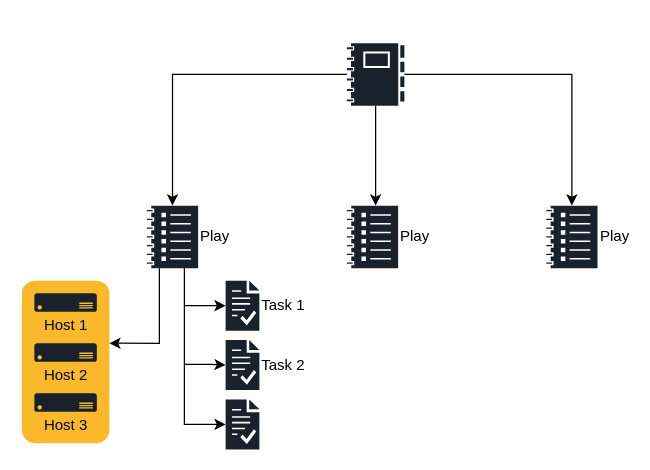
Image size: 650x470. Some labels were removed from this diagram. The shapes that lost their labels are listed below. From the top down, each one's box as (x1, y1, x2, y2) in pixels, then its label:
(346, 42, 404, 105): Playbook
(21, 280, 109, 442): Hosts
(225, 399, 259, 449): Task 3
